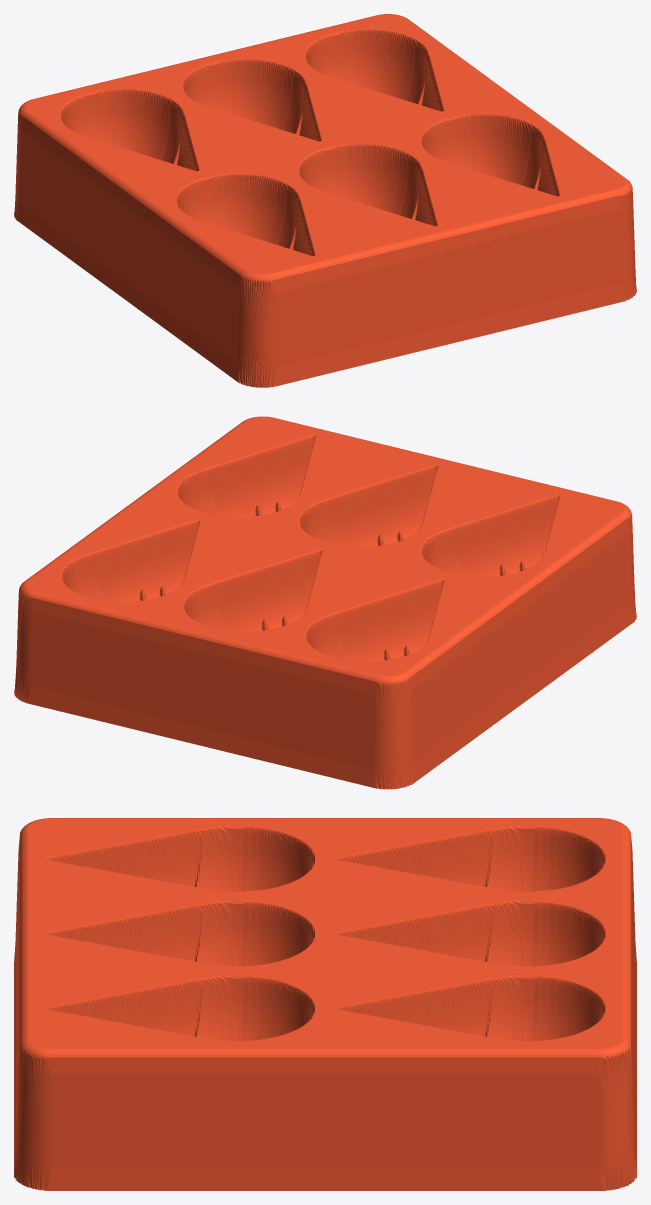
The model's file is mold.glb.
3 renders of one model, top to bottom at view 1: azimuth 30°, elevation 25°; view 2: azimuth 150°, elevation 25°; view 3: azimuth 270°, elevation 25°, orthographic. The views are drawn at different scales.
Parts seen in each view (by area): view 1: geometry_0; view 2: geometry_0; view 3: geometry_0.
Part boxes in pixels (<box>): geometry_0: <box>14,14,636,387</box>; geometry_0: <box>14,416,636,789</box>; geometry_0: <box>14,818,636,1190</box>.
Bounding box in the file's own units: 0.1372 × 0.036 × 0.1492.
